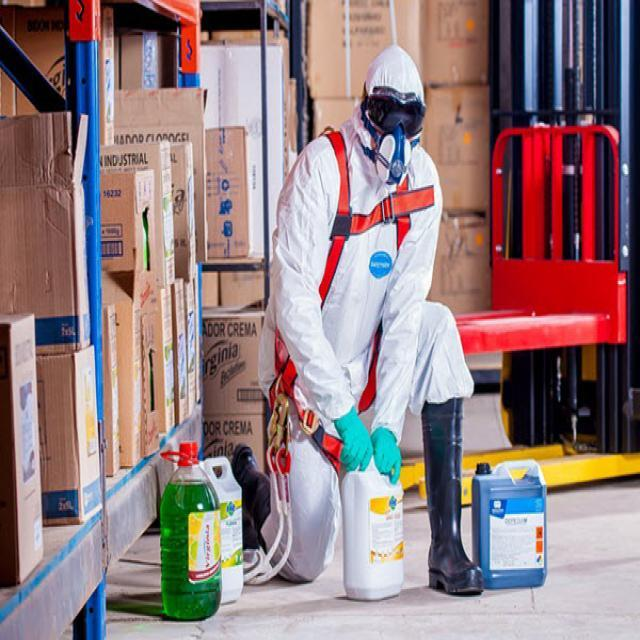Gloves: (333, 410, 373, 489), (373, 421, 403, 483)
